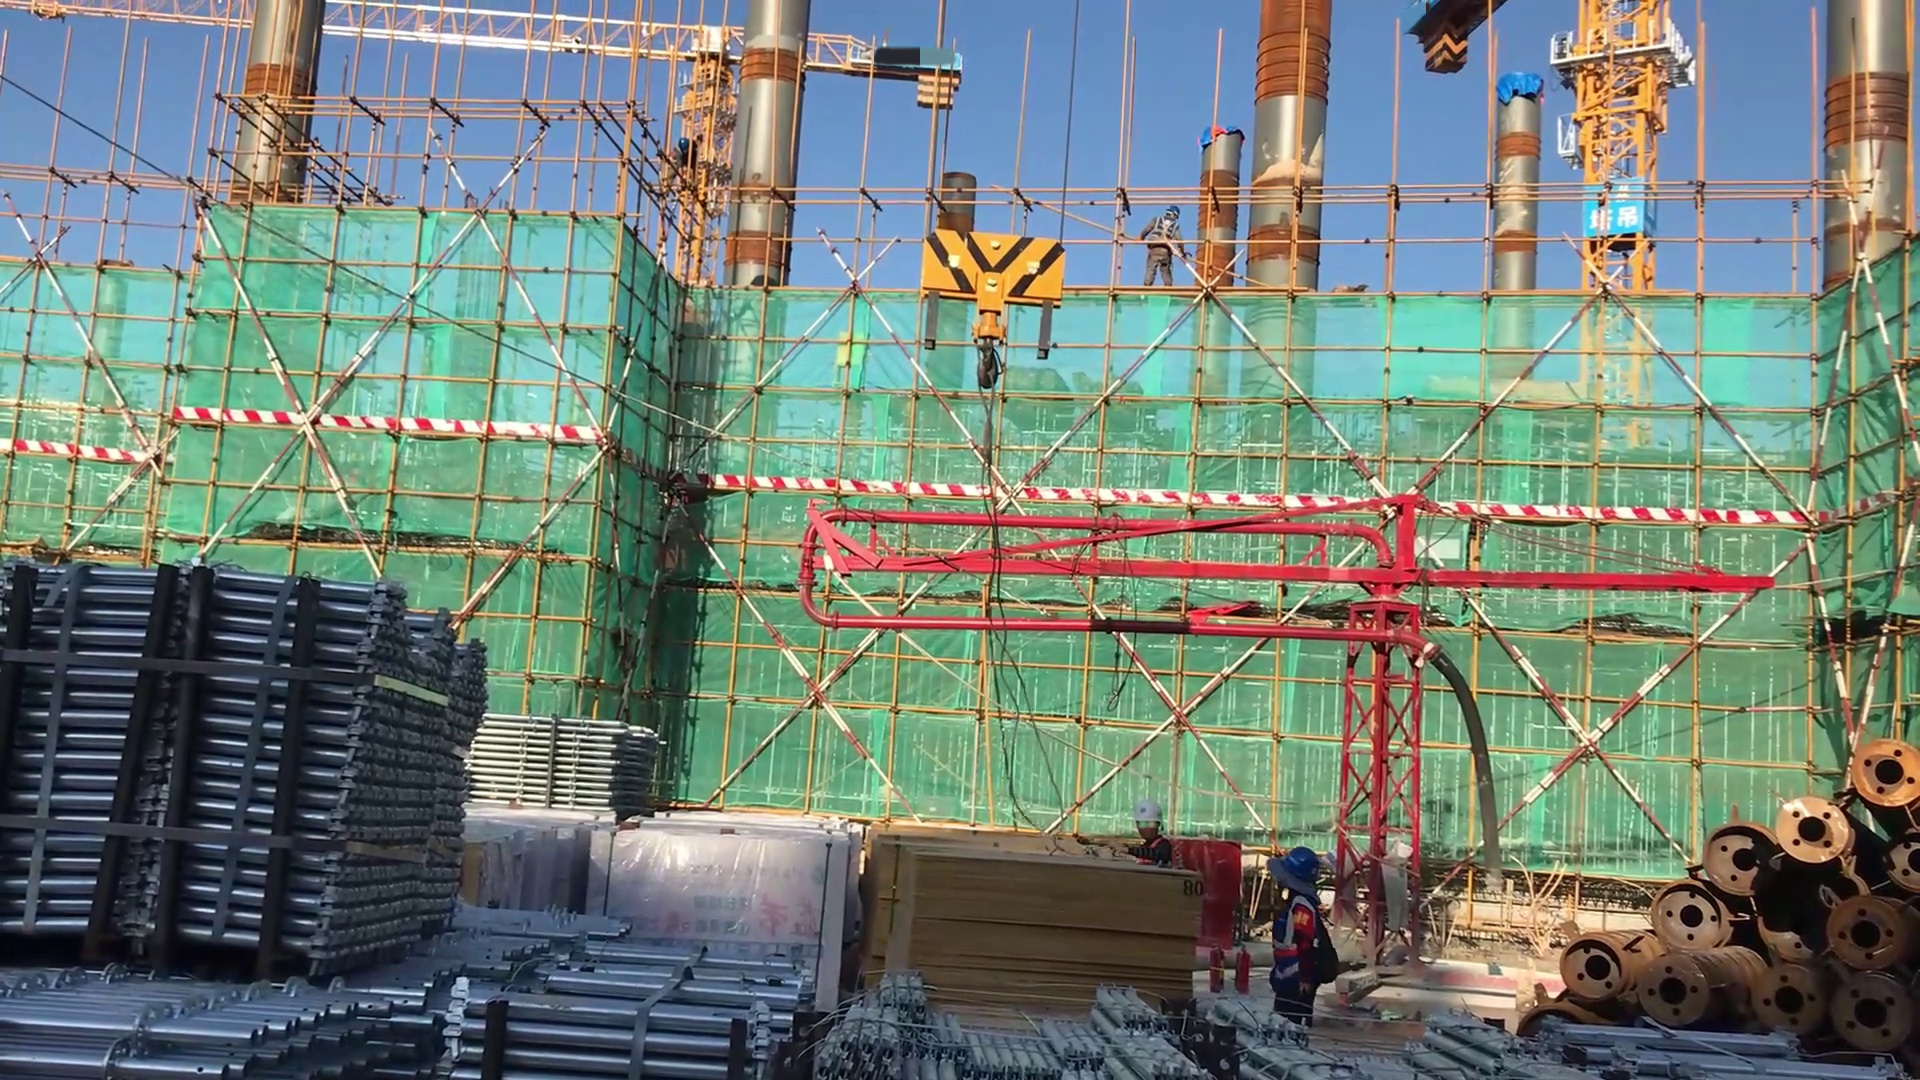board: (863, 826, 1198, 1034)
helmet: (1279, 843, 1325, 884), (1126, 800, 1172, 829), (1162, 199, 1185, 226)
hook: (893, 187, 1113, 434)
person: (1258, 839, 1338, 1041), (1071, 798, 1180, 868), (1136, 202, 1191, 304)
scaffold: (1, 555, 493, 964), (433, 902, 845, 1080), (1, 966, 455, 1077), (841, 969, 1213, 1080), (1211, 970, 1563, 1080), (448, 707, 670, 817), (1550, 1014, 1878, 1080)
slogan: (1580, 184, 1658, 246)
vest: (1269, 896, 1335, 999), (1153, 215, 1176, 255)
